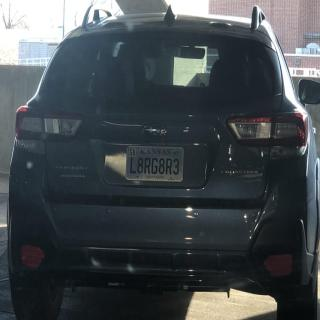license: (127, 147, 185, 184)
